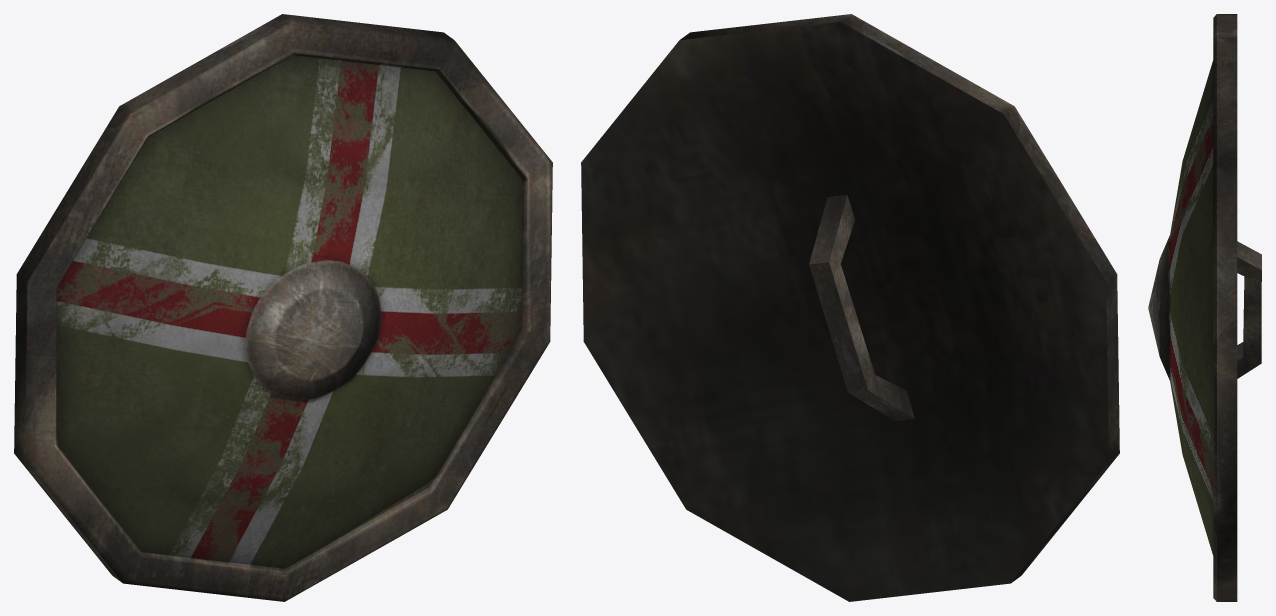
The model's file is weapons_shield03.glb.
3 renders of one model, left to right at view 1: azimuth 30°, elevation 25°; view 2: azimuth 150°, elevation 25°; view 3: azimuth 270°, elevation 25°, orthographic. The views are drawn at different scales.
Visible parts, largest first — view 1: shield03; view 2: shield03; view 3: shield03.
Boxes of the visible parts, x1=… form: shield03: x1=14, y1=14, x2=552, y2=601; shield03: x1=581, y1=14, x2=1119, y2=601; shield03: x1=1148, y1=14, x2=1261, y2=601.
Bounding box in the file's own units: 0.6001 × 0.6278 × 0.1195.
1 material, 1 textured.
